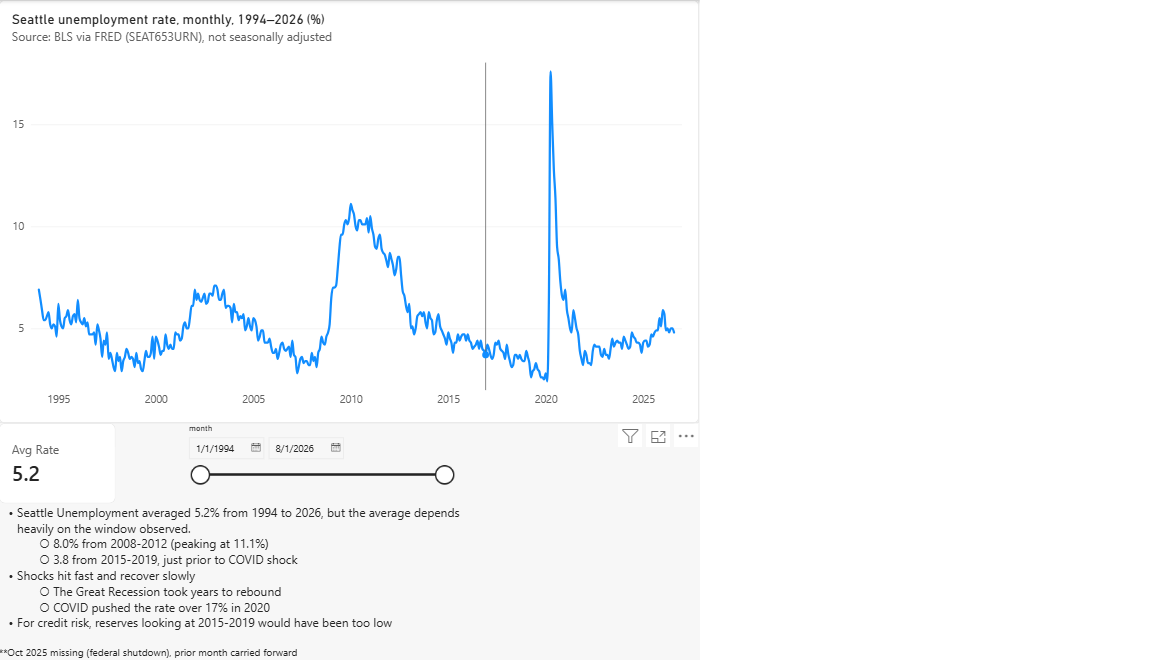

The dashboard page shown, as its layout file describes it:
{"tool":"powerbi","page":{"name":"Page 1","canvas":[1920,1080],"ordinal":0},"visuals":[{"type":"lineChart","title":"Seattle unemployment rate, monthly, 1994–2026 (%)","fields":{"Category":["seattle_unemployment.month"],"Y":["Avg(seattle_unemployment.rate)"]},"box":[0,0,930.8,563.2],"z":0},{"type":"cardVisual","fields":{"Data":["seattle_unemployment.Avg Rate"]},"box":[0,562.6,155.6,107.7],"z":1},{"type":"slicer","fields":{"Values":["seattle_unemployment.month"]},"box":[244.7,562.6,364.4,107.7],"z":2},{"type":"textbox","box":[0,670.3,651.7,409.7],"z":3}]}

Visuals, with their boxes in screenshot pixels (x1, y1, x2, y2), scaled from the page's 1920x1080 canvas onto the 1152x660 screenshot:
"Seattle unemployment rate, monthly, 1994–2026 (%)" lineChart: locate(0, 0, 558, 344)
cardVisual - seattle_unemployment.Avg Rate: locate(0, 344, 93, 410)
slicer - seattle_unemployment.month: locate(147, 344, 365, 410)
textbox: locate(0, 410, 391, 659)
